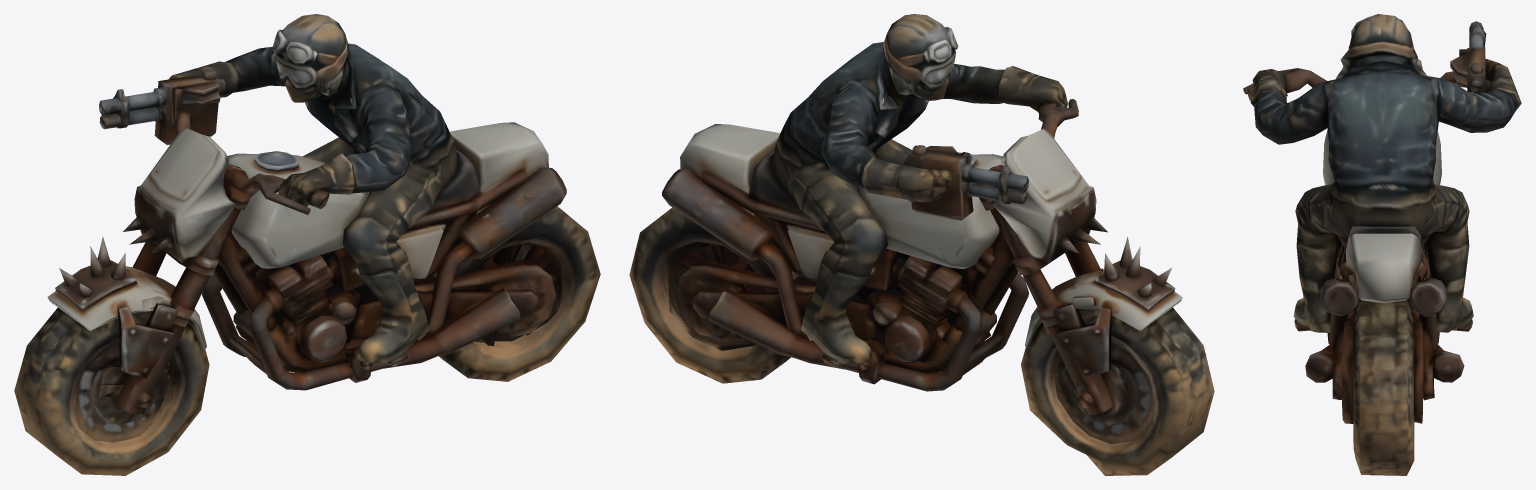
The model's file is motorcycle.glb.
3 renders of one model, left to right at view 1: azimuth 30°, elevation 25°; view 2: azimuth 150°, elevation 25°; view 3: azimuth 270°, elevation 25°, orthographic. The views are drawn at different scales.
Parts seen in each view (by area): view 1: geometry_0; view 2: geometry_0; view 3: geometry_0.
Boxes of the visible parts, left/top/right/bottom form: geometry_0: left=14, top=14, right=600, bottom=475; geometry_0: left=629, top=14, right=1214, bottom=475; geometry_0: left=1243, top=14, right=1521, bottom=475.
Bounding box in the file's own units: 0.9541 × 0.6533 × 0.4487.
Materials: 1 (1 with a texture image).
